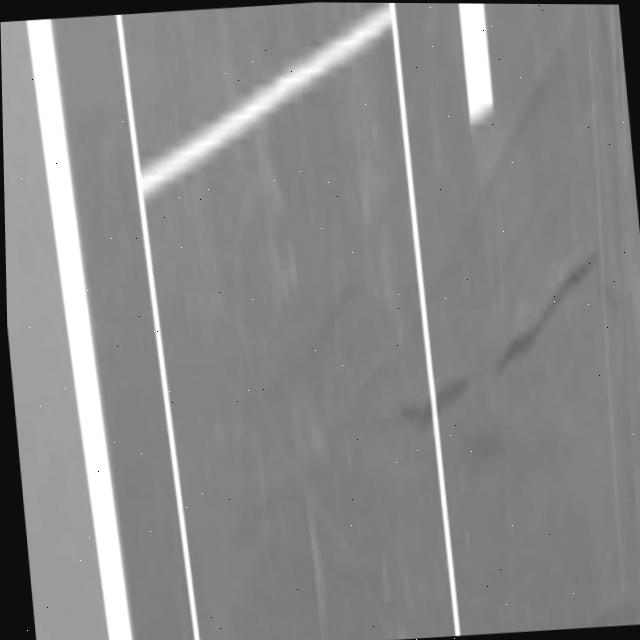center: (458, 3, 492, 125)
left: (25, 18, 132, 640)
